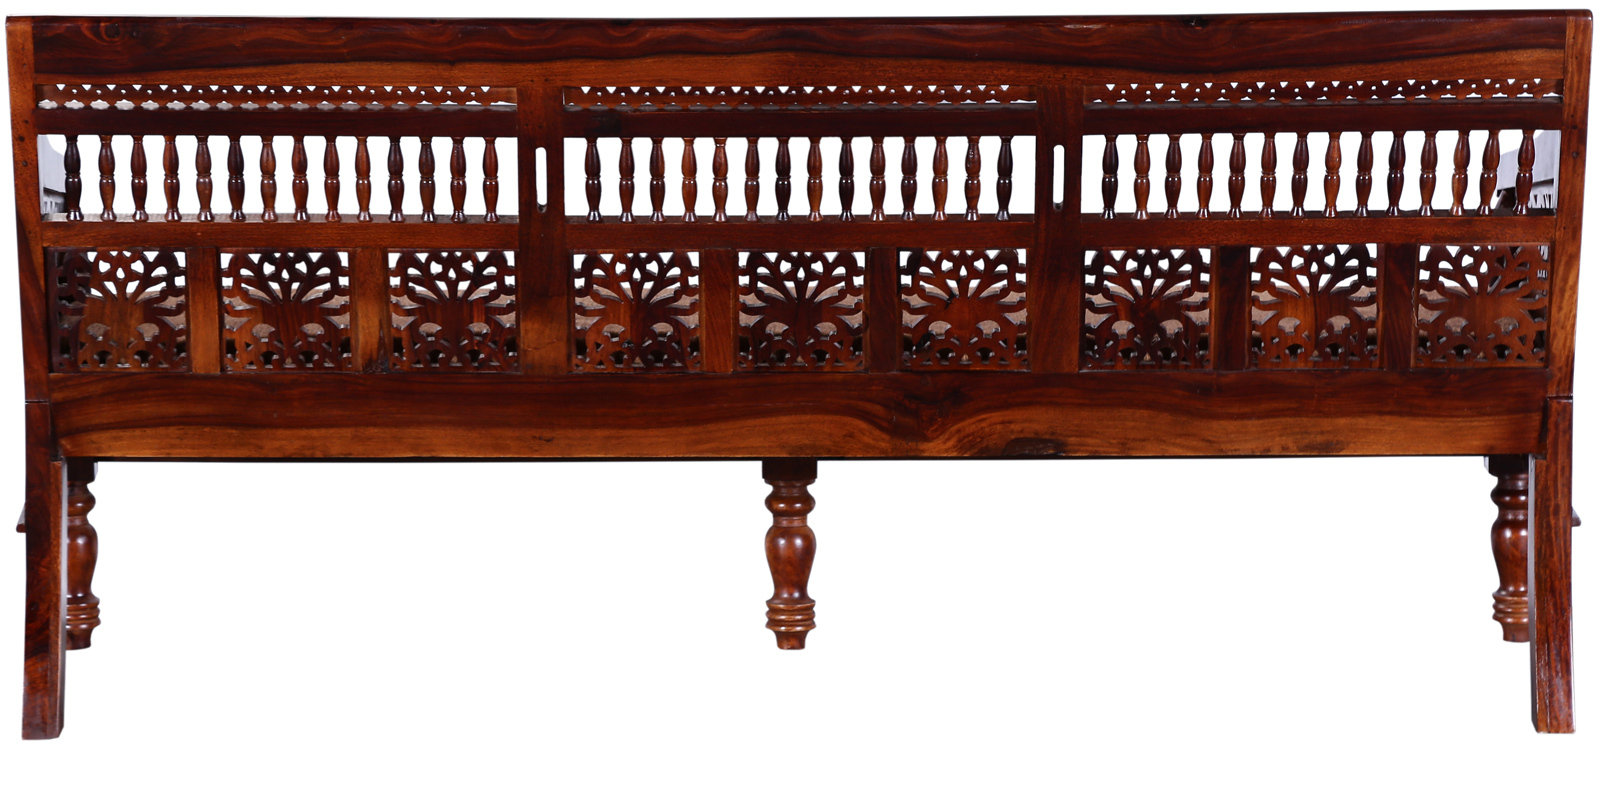Maurya Handcrafted Three Seater Sofa in Honey Oak Finish by Mudramark: (7, 13, 1587, 742)
